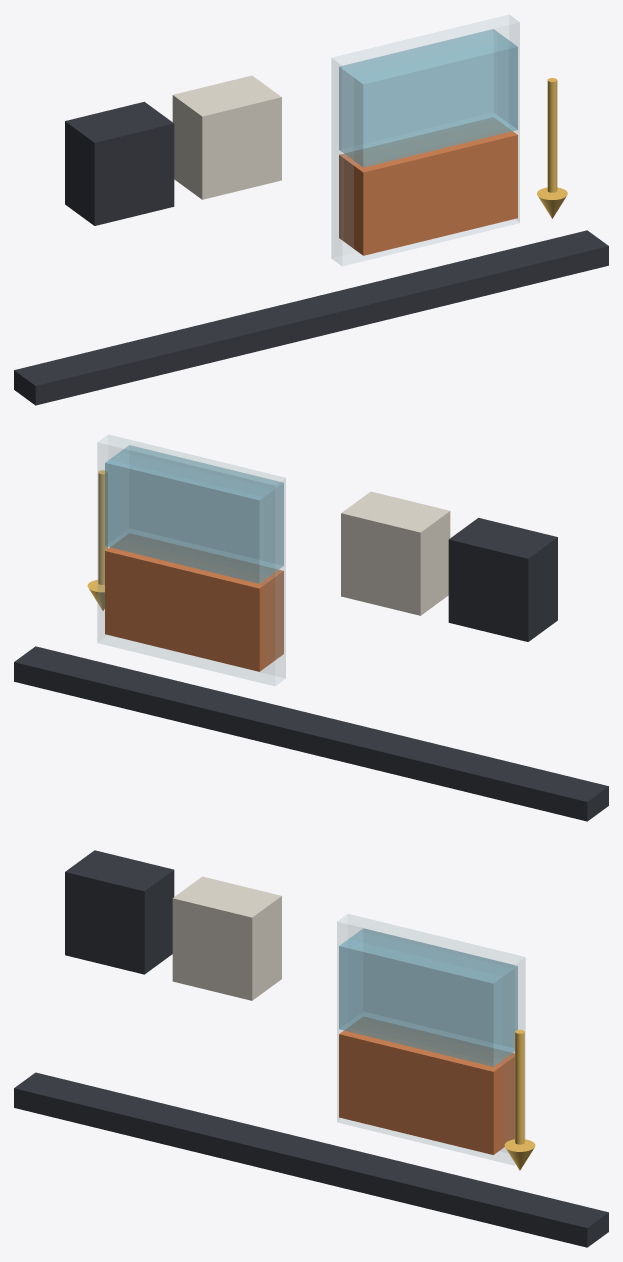
Rendered from physics-fluids-density.glb.
3 renders of one model, top to bottom at view 1: azimuth 30°, elevation 25°; view 2: azimuth 150°, elevation 25°; view 3: azimuth 330°, elevation 25°, orthographic.
Visible parts, largest first — view 1: fluid-lab-bench, density-column-glass, less-dense-layer-top-fluid, dense-layer-bottom-fluid, same-volume-left-heavy-sample, same-volume-right-light-sample, layering-direction-density-shaft, layering-direction-density-head; view 2: fluid-lab-bench, density-column-glass, less-dense-layer-top-fluid, dense-layer-bottom-fluid, same-volume-left-heavy-sample, same-volume-right-light-sample, layering-direction-density-shaft; view 3: fluid-lab-bench, density-column-glass, less-dense-layer-top-fluid, dense-layer-bottom-fluid, same-volume-right-light-sample, same-volume-left-heavy-sample, layering-direction-density-shaft, layering-direction-density-head.
Part boxes in pixels (x1=…): fluid-lab-bench: x1=14, y1=230, x2=608, y2=405; density-column-glass: x1=331, y1=15, x2=519, y2=265; less-dense-layer-top-fluid: x1=339, y1=29, x2=517, y2=167; dense-layer-bottom-fluid: x1=339, y1=117, x2=517, y2=255; same-volume-left-heavy-sample: x1=65, y1=101, x2=174, y2=225; same-volume-right-light-sample: x1=172, y1=75, x2=281, y2=199; layering-direction-density-shaft: x1=547, y1=78, x2=557, y2=192; layering-direction-density-head: x1=537, y1=187, x2=567, y2=218; fluid-lab-bench: x1=14, y1=646, x2=608, y2=821; density-column-glass: x1=97, y1=434, x2=285, y2=685; less-dense-layer-top-fluid: x1=105, y1=445, x2=283, y2=583; dense-layer-bottom-fluid: x1=105, y1=533, x2=283, y2=671; same-volume-left-heavy-sample: x1=448, y1=517, x2=557, y2=641; same-volume-right-light-sample: x1=341, y1=491, x2=450, y2=615; layering-direction-density-shaft: x1=98, y1=470, x2=107, y2=584; fluid-lab-bench: x1=14, y1=1072, x2=608, y2=1247; density-column-glass: x1=337, y1=914, x2=525, y2=1165; less-dense-layer-top-fluid: x1=339, y1=928, x2=517, y2=1066; dense-layer-bottom-fluid: x1=339, y1=1017, x2=514, y2=1154; same-volume-right-light-sample: x1=172, y1=876, x2=281, y2=1000; same-volume-left-heavy-sample: x1=65, y1=850, x2=174, y2=974; layering-direction-density-shaft: x1=515, y1=1029, x2=524, y2=1144; layering-direction-density-head: x1=504, y1=1139, x2=535, y2=1170.
Size of what is drawn, in the model's own units: 2.45 by 1.05 by 0.2876.
